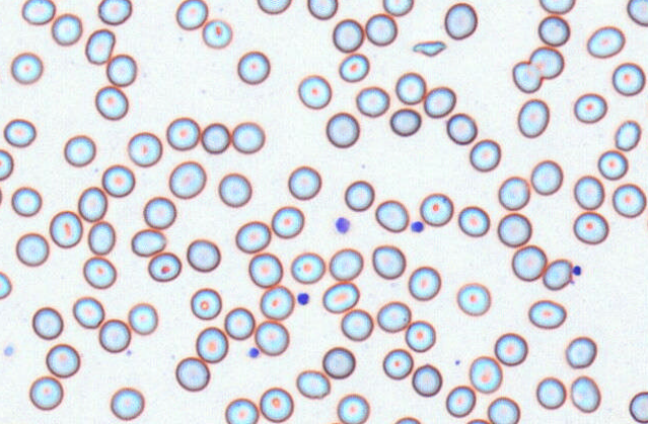PLT: (333, 215, 351, 235), (295, 293, 311, 307), (410, 221, 423, 233), (247, 347, 257, 359), (573, 264, 583, 276)
RBC: (168, 160, 206, 199), (511, 244, 546, 281), (468, 355, 502, 393), (586, 25, 625, 58), (254, 320, 289, 356), (127, 131, 162, 167), (325, 111, 359, 148), (49, 210, 82, 248), (444, 2, 477, 40), (517, 98, 549, 137), (45, 343, 80, 378), (175, 356, 210, 391), (259, 285, 294, 320), (259, 386, 293, 422), (195, 326, 228, 363), (29, 375, 63, 410), (248, 252, 282, 287), (297, 74, 331, 109), (497, 212, 531, 247), (328, 247, 363, 281), (287, 165, 321, 200), (371, 244, 405, 279), (573, 211, 609, 244), (530, 159, 563, 195), (235, 220, 271, 253), (322, 281, 359, 313), (570, 375, 601, 413), (110, 386, 144, 420), (15, 232, 49, 266), (612, 183, 646, 217), (611, 62, 645, 96), (456, 282, 490, 316), (186, 238, 220, 272), (419, 192, 453, 226), (529, 45, 564, 78), (98, 318, 131, 353), (408, 265, 441, 300), (218, 172, 251, 207), (95, 85, 128, 120), (528, 299, 566, 329), (494, 332, 527, 366), (82, 256, 116, 289), (237, 50, 270, 84), (142, 196, 176, 229), (101, 164, 135, 197), (166, 116, 199, 150), (376, 300, 411, 332), (290, 251, 325, 283), (340, 308, 373, 341), (10, 51, 43, 84), (271, 205, 304, 238), (375, 199, 408, 232), (231, 121, 265, 153), (355, 85, 389, 117), (498, 176, 530, 210), (85, 28, 115, 64), (77, 186, 107, 222), (322, 346, 355, 378), (565, 335, 597, 368), (365, 13, 397, 46), (423, 85, 455, 118), (31, 306, 63, 339), (411, 363, 442, 397), (224, 306, 255, 340), (147, 251, 181, 282), (332, 18, 363, 52), (573, 175, 604, 209), (573, 92, 607, 123), (295, 369, 330, 399), (72, 296, 104, 328), (63, 134, 95, 166), (51, 12, 82, 45), (535, 376, 566, 409), (395, 71, 426, 104), (127, 302, 158, 335), (537, 15, 570, 46), (190, 287, 221, 320), (469, 138, 500, 171), (404, 320, 435, 352), (446, 112, 477, 144), (457, 205, 489, 236), (512, 60, 542, 93), (336, 393, 369, 423), (106, 53, 136, 86), (131, 228, 166, 256), (597, 149, 628, 180), (382, 348, 413, 379), (175, 0, 207, 30), (445, 385, 475, 417), (344, 179, 374, 211), (3, 118, 36, 147), (87, 220, 115, 254), (389, 107, 421, 136), (202, 18, 232, 48), (11, 186, 41, 216), (338, 53, 369, 82), (201, 122, 230, 153), (487, 396, 520, 423), (224, 397, 258, 423), (97, 0, 132, 25), (614, 119, 641, 151), (21, 0, 55, 24), (629, 391, 647, 423), (307, 0, 337, 19), (627, 0, 648, 26), (539, 0, 575, 14), (382, 0, 413, 16), (257, 0, 291, 14), (0, 148, 13, 180), (0, 270, 11, 299), (393, 415, 421, 423), (465, 418, 490, 423), (0, 185, 3, 208)
Schistocyte: (544, 260, 574, 291), (412, 41, 447, 58)
